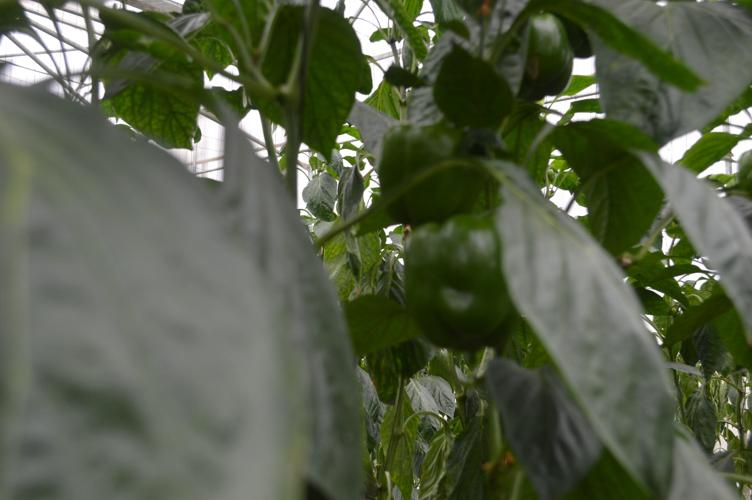BellPepper: (399, 218, 508, 351), (381, 122, 476, 215), (508, 13, 570, 96)
